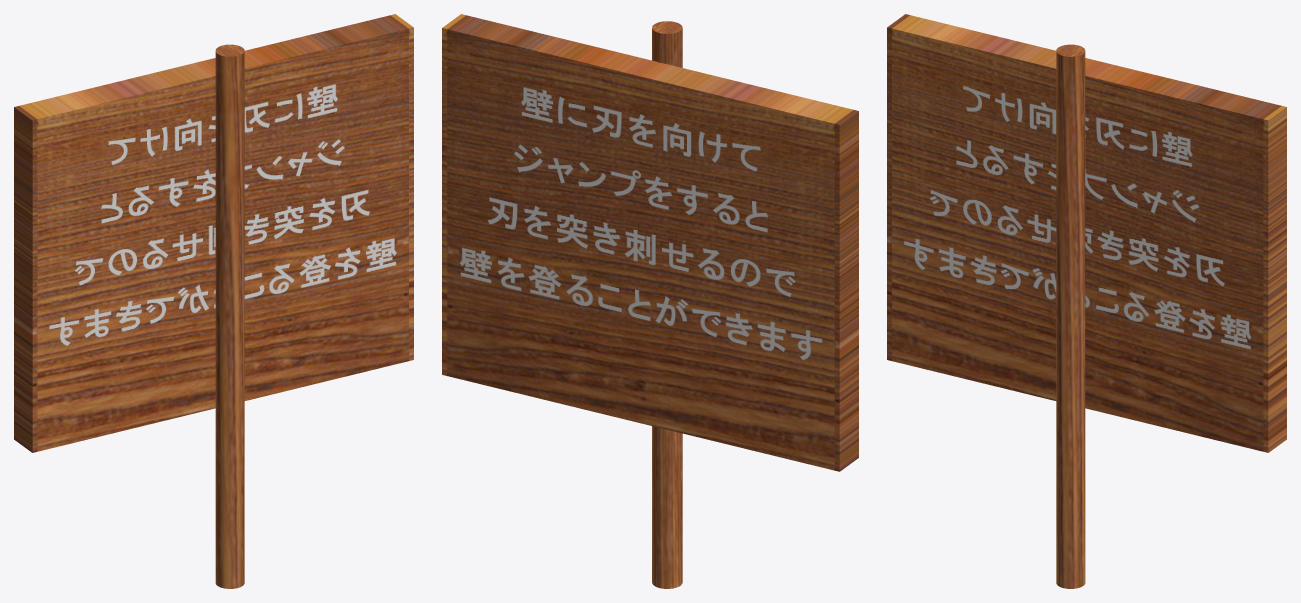
Rendered from Sign5.fbx.
3 views of the same model, side by side, from view 1: azimuth 30°, elevation 25°; view 2: azimuth 150°, elevation 25°; view 3: azimuth 330°, elevation 25° (orthographic). The views are drawn at different scales.
Visible parts, largest first — view 1: pCube1, pCylinder1; view 2: pCube1, pCylinder1; view 3: pCube1, pCylinder1.
Boxes of the visible parts, x1=… form: pCube1: x1=14, y1=14, x2=413, y2=452; pCylinder1: x1=215, y1=44, x2=244, y2=588; pCube1: x1=442, y1=14, x2=858, y2=471; pCylinder1: x1=652, y1=21, x2=682, y2=588; pCube1: x1=887, y1=14, x2=1286, y2=452; pCylinder1: x1=1056, y1=44, x2=1085, y2=588.
Size of the model in its own units: 1.2 by 1.6 by 0.1781.
